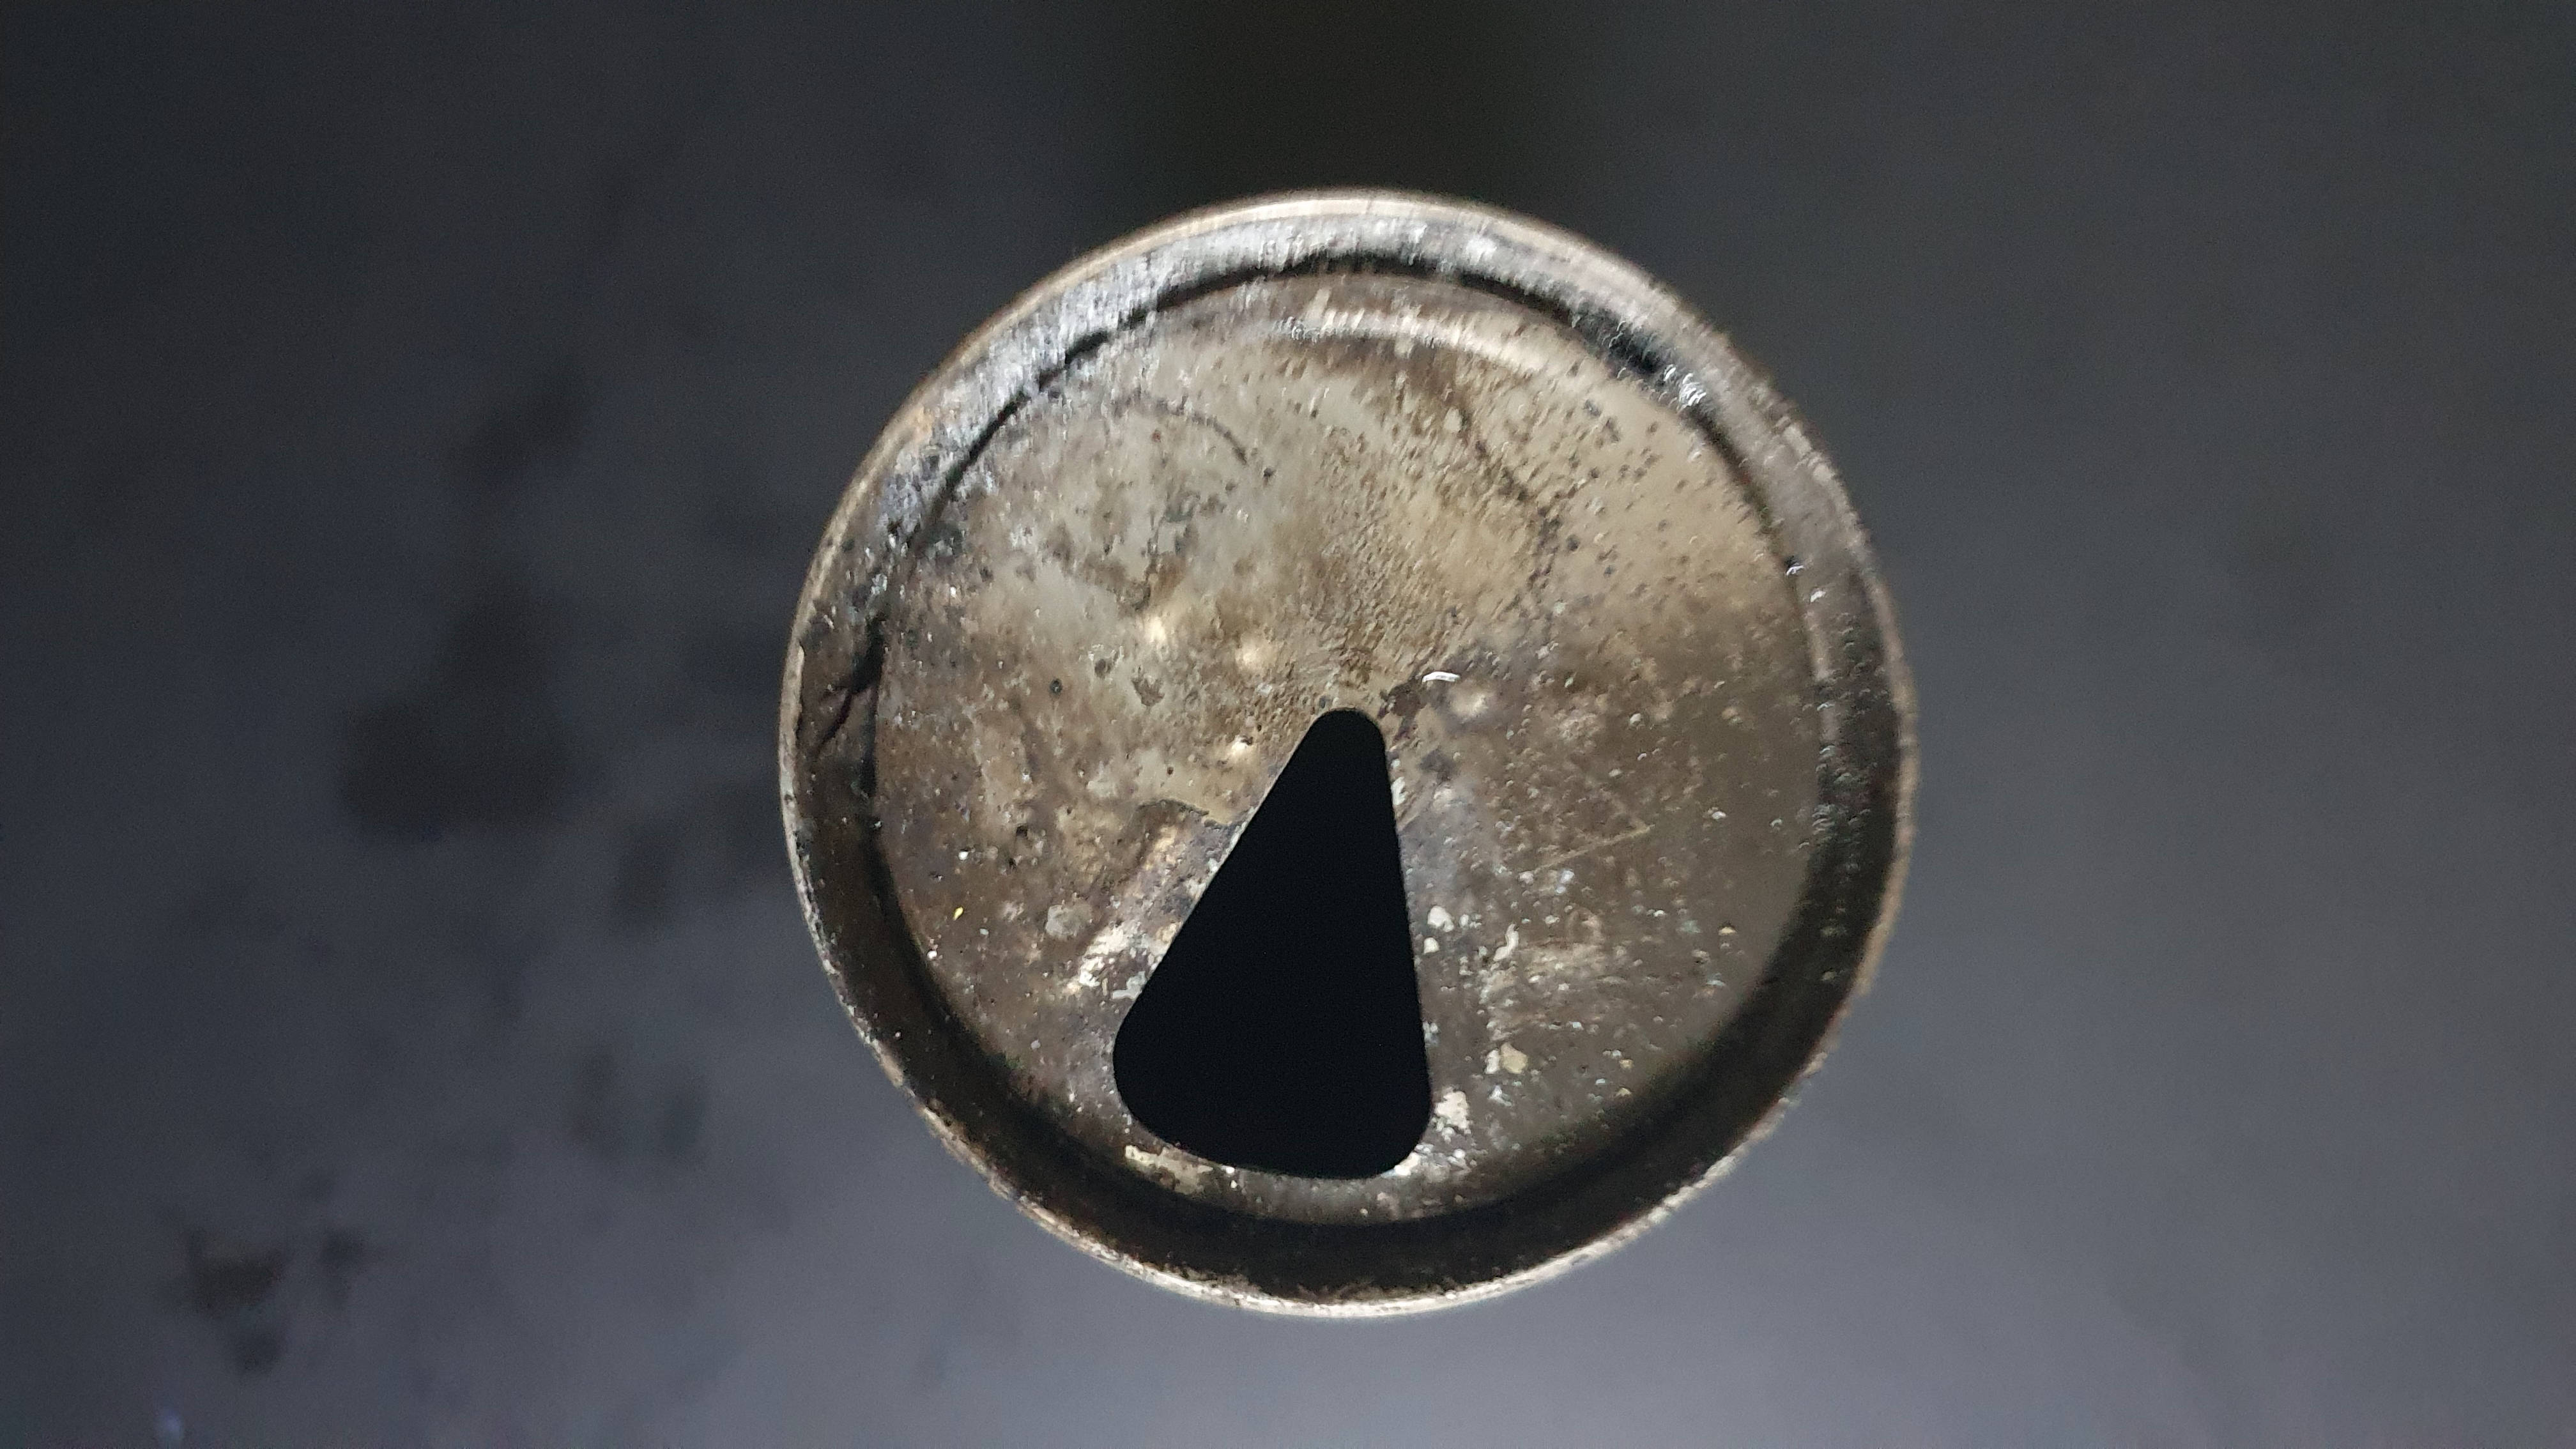metal: (734, 147, 1953, 1364)
